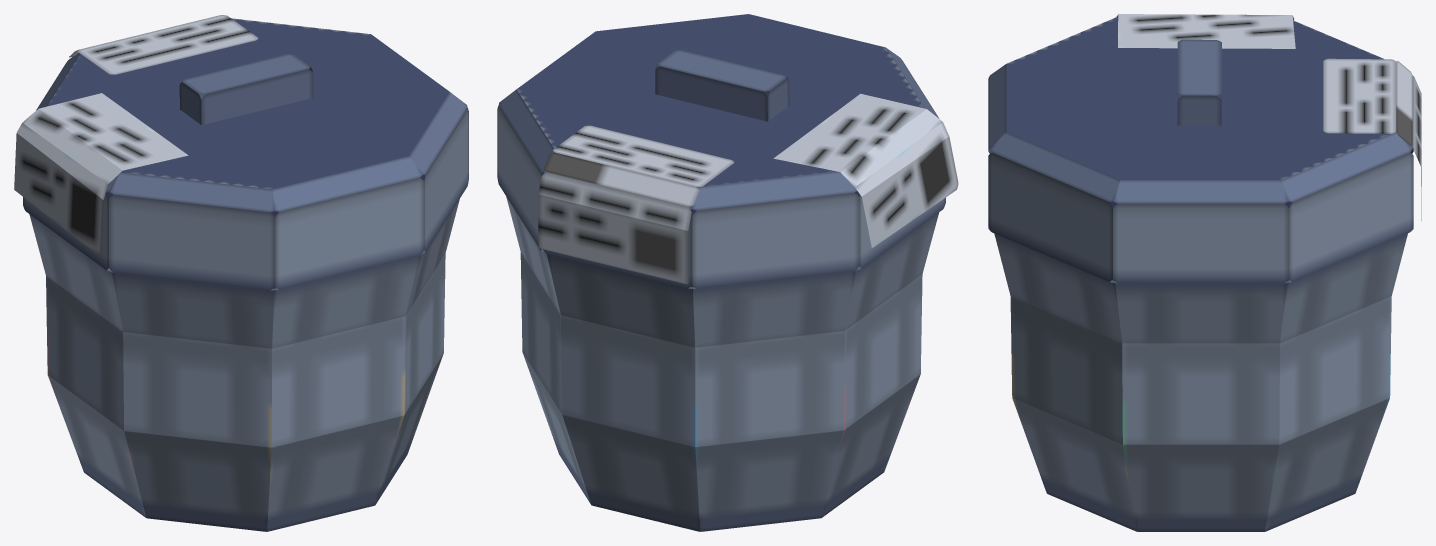
File: Tempat_Sampah.fbx
The picture shows the model from 3 angles, left to right: view 1: azimuth 30°, elevation 25°; view 2: azimuth 150°, elevation 25°; view 3: azimuth 270°, elevation 25°; orthographic projection. The views are drawn at different scales.
Visible parts, largest first — view 1: cylinder_1, cylinder, plane_1, cube, plane; view 2: cylinder_1, cylinder, plane, plane_1, cube; view 3: cylinder_1, cylinder, plane, plane_1, cube.
Part boxes in pixels (x1,y1,x2,y2): cylinder_1: (29, 199, 459, 531); cylinder: (23, 18, 468, 290); plane_1: (14, 93, 188, 255); cube: (179, 54, 313, 125); plane: (67, 15, 258, 74); cylinder_1: (506, 196, 938, 531); cylinder: (497, 14, 945, 288); plane: (538, 125, 734, 284); plane_1: (773, 93, 958, 247); cube: (655, 50, 789, 121); cylinder_1: (994, 152, 1410, 531); cylinder: (988, 16, 1413, 283); plane: (1323, 58, 1421, 220); plane_1: (1116, 14, 1295, 48); cube: (1177, 39, 1221, 125).
Bounding box in the file's own units: 158 × 159 × 156.
1 material, 1 textured.
